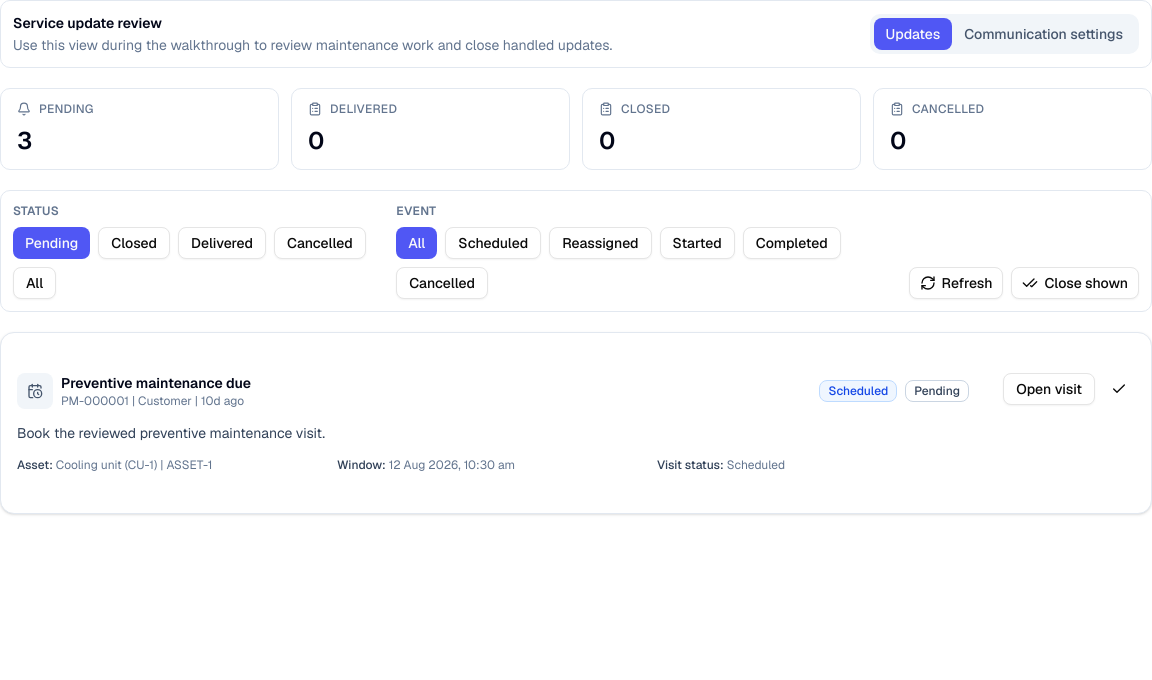
Test: PmNotificationCenter message preview interaction › requires reviewed selection and explicit confirmation before a successful email send
Step 1. Click the button "Communication settings" → point(1044, 34), box [952,18,1135,50]
(page scrolled)
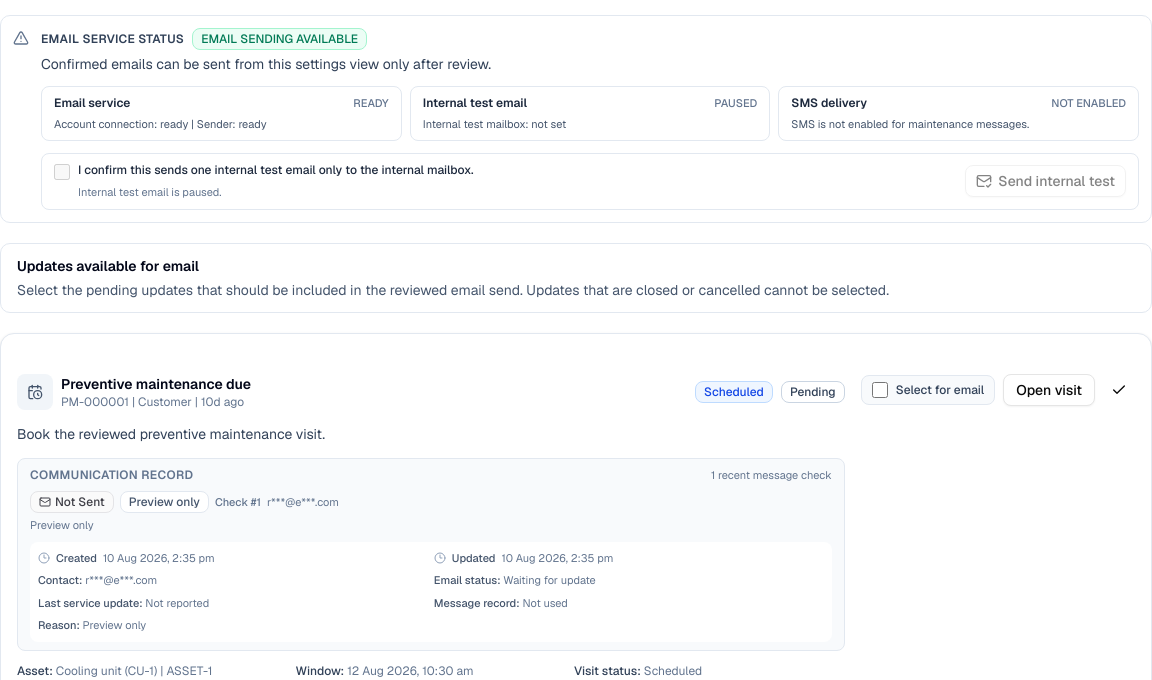
Step 2. Click the checkbox named "Select Preventive maintenance due for reviewed email sending" → point(880, 390), box [872,382,888,398]
(page scrolled)
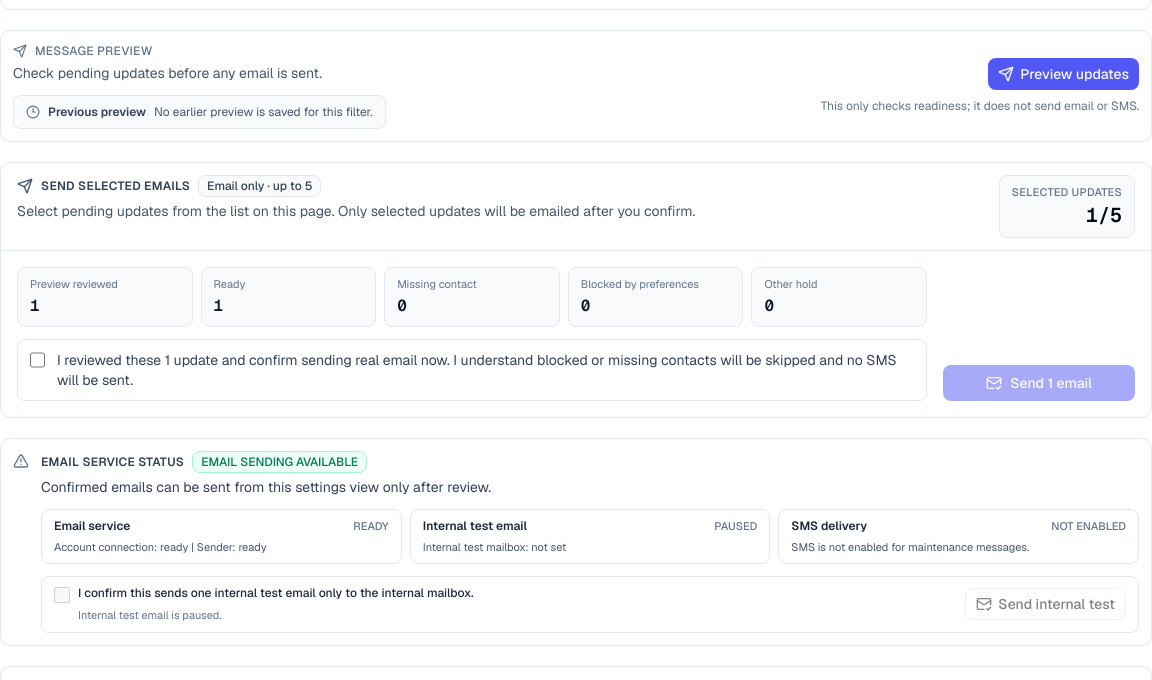
Check: the button "Send 1 email" is disabled, box [943,365,1135,401]
Check: the checkbox named "I reviewed these selected updates" is enabled
Check: the text "1/5" is shown, box [1086,202,1122,228]
Step 3. Click the checkbox named "I reviewed these selected updates" → point(37, 360), box [30,352,45,368]
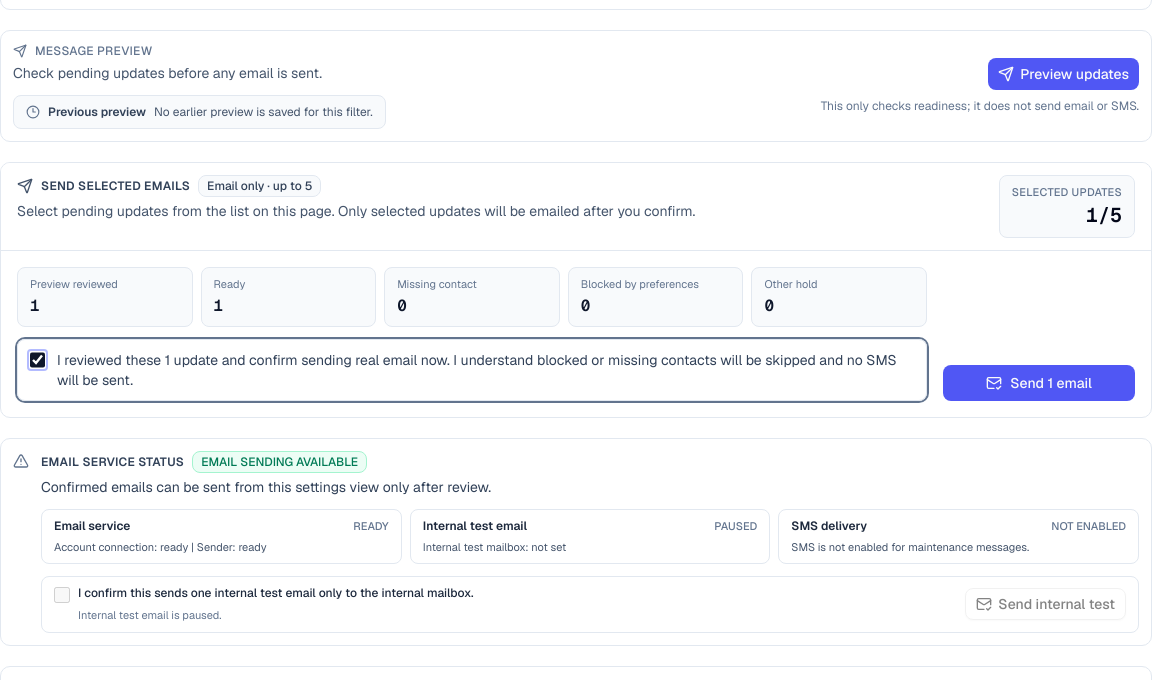
Check: the button "Send 1 email" is enabled
Step 4. Click the button "Send 1 email" → point(1039, 383), box [943,365,1135,401]
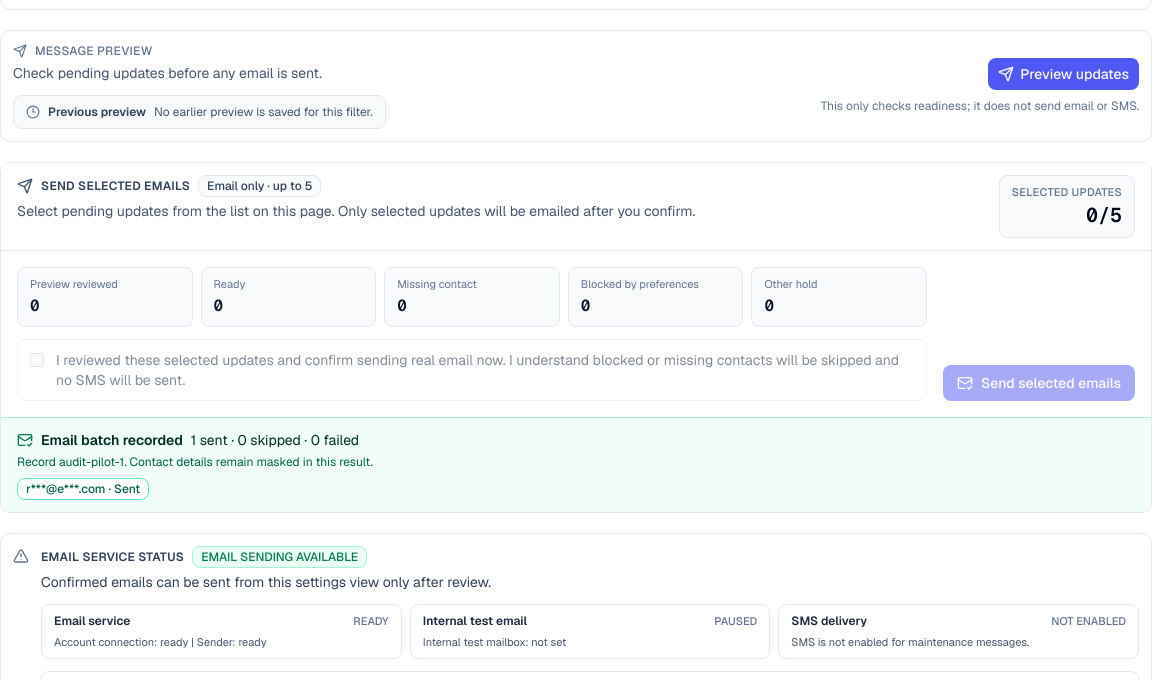
Check: the text "Email batch recorded" shows "1 sent · 0 skipped · 0 failed", box [1,417,1151,512]
